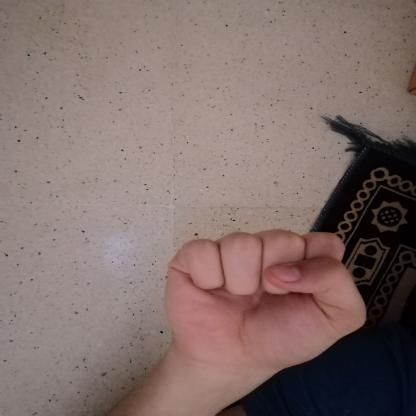SAD: (142, 218, 375, 384)
